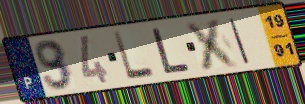4: (79, 33, 110, 87)
9: (32, 37, 76, 92)
I: (227, 17, 252, 65)
L: (111, 29, 158, 82), (150, 26, 193, 76)
X: (182, 16, 242, 72)
